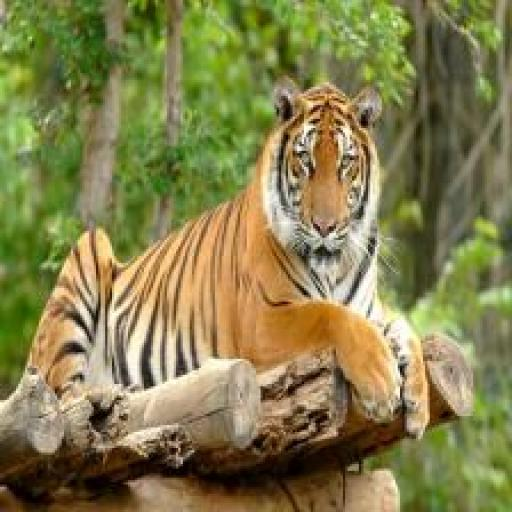Tiger: (18, 64, 436, 448)
